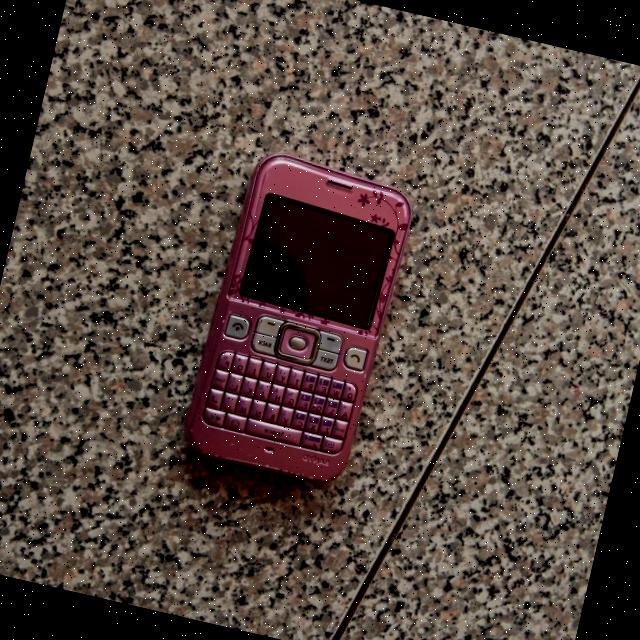Phone: (178, 147, 416, 495)
